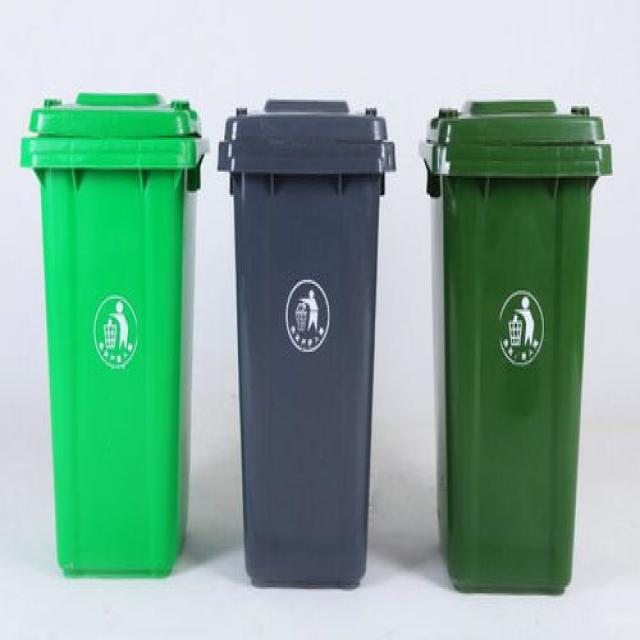garbage_bin: (418, 97, 612, 594), (19, 89, 210, 572), (217, 98, 396, 587)
